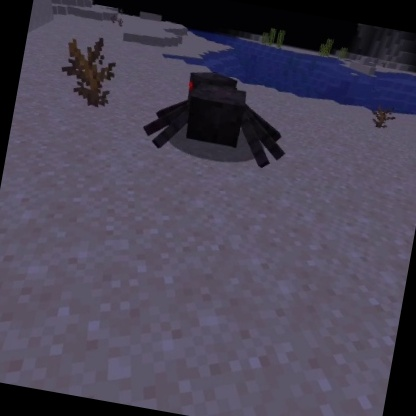spider: (137, 59, 301, 175)
